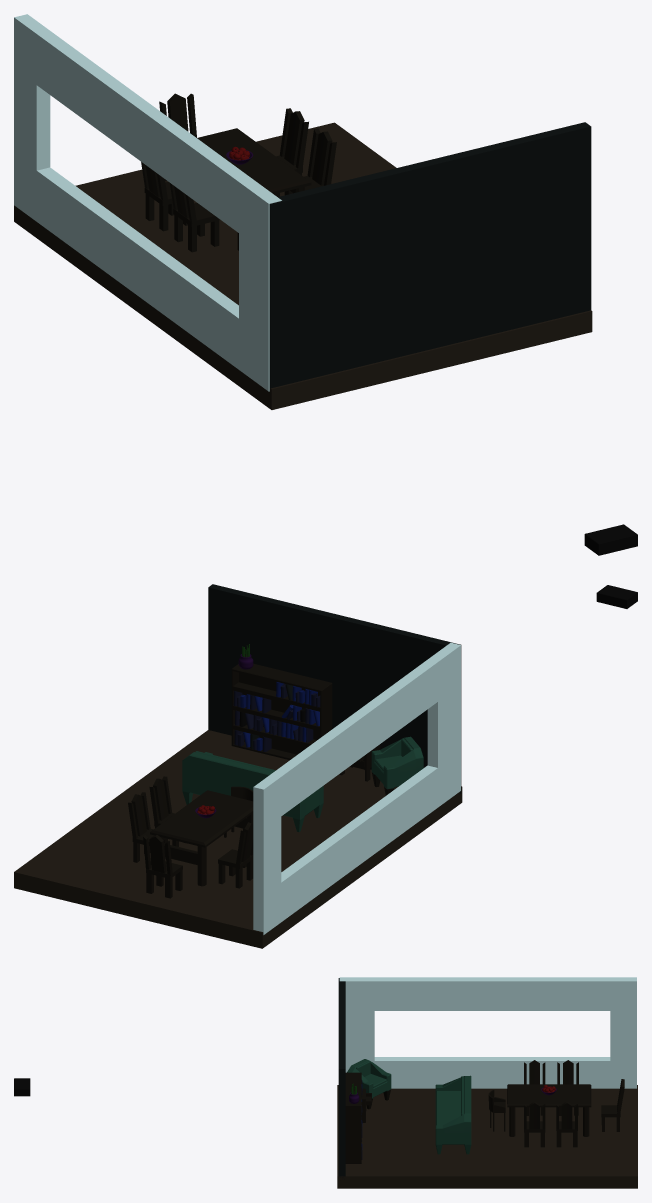
The model's file is room-simple.obj.
The picture shows the model from 3 angles, top to bottom: view 1: azimuth 30°, elevation 25°; view 2: azimuth 150°, elevation 25°; view 3: azimuth 270°, elevation 25°; orthographic projection. The views are drawn at different scales.
Parts seen in each view (by area): view 1: walls_floor, table, chair2, chair4, chair3, chair1, cabinet:drawer_closed cabinet2:drawer_closed1, chair5; view 2: walls_floor, shelve, table, chair_simple:pCube4, chair_simple:pCube8, chair5, chair1, chair4, chair3, cabinet:drawer_closed cabinet2:drawer_closed1; view 3: walls_floor, chair_simple:pCube4, table, shelve, chair_simple:pCube8, chair4, chair3, chair5, chair2, chair1, highchair, cabinet:drawer_closed cabinet2:drawer_closed1.
Part boxes in pixels (x1,y1,x2,y2): walls_floor: (14,14,592,409); table: (197,128,311,250); chair2: (170,183,219,252); chair4: (274,108,308,196); chair3: (284,128,336,195); chair1: (141,162,187,231); cabinet:drawer_closed cabinet2:drawer_closed1: (584,524,637,555); chair5: (159,93,196,181); walls_floor: (14,584,462,948); shelve: (231,663,332,759); table: (150,790,253,886); chair_simple:pCube4: (182,751,323,831); chair_simple:pCube8: (371,736,423,795); chair5: (143,834,182,898); chair1: (218,822,253,888); chair4: (128,792,167,864); chair3: (149,776,185,846); cabinet:drawer_closed cabinet2:drawer_closed1: (596,585,637,608); walls_floor: (337,977,637,1188); chair_simple:pCube4: (435,1075,471,1154); table: (507,1084,591,1136); shelve: (345,1072,361,1163); chair_simple:pCube8: (347,1059,391,1109); chair4: (556,1101,577,1147); chair3: (524,1101,545,1147); chair5: (601,1079,624,1131); chair2: (524,1060,545,1115); chair1: (557,1060,578,1115); highchair: (488,1090,505,1131); cabinet:drawer_closed cabinet2:drawer_closed1: (14,1078,30,1096).
Bounding box in the file's own units: 13.14 × 8.01 × 37.84.
